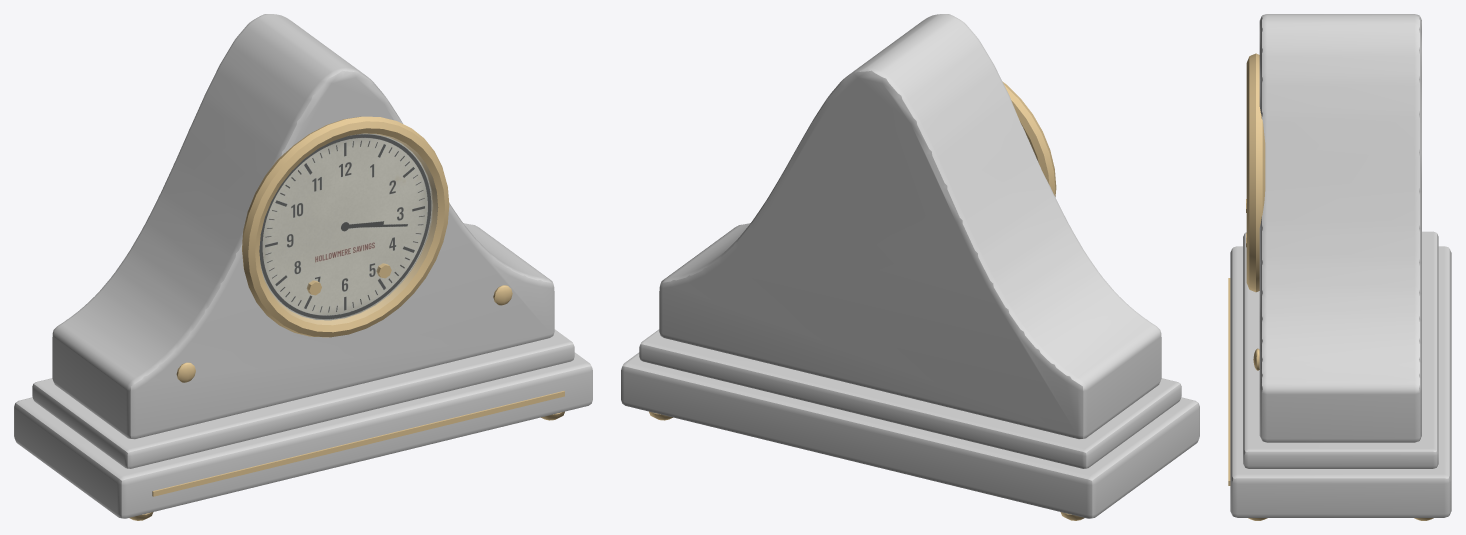
The model's file is SM_Loot_MantelClock.fbx.
3 views of the same model, side by side, from view 1: azimuth 30°, elevation 25°; view 2: azimuth 150°, elevation 25°; view 3: azimuth 270°, elevation 25° (orthographic).
Parts seen in each view (by area): view 1: SM_Loot_MantelClock_1; view 2: SM_Loot_MantelClock_1; view 3: SM_Loot_MantelClock_1.
Part boxes in pixels (x1,y1,x2,y2): SM_Loot_MantelClock_1: (14, 14, 592, 520); SM_Loot_MantelClock_1: (621, 14, 1199, 520); SM_Loot_MantelClock_1: (1228, 14, 1451, 520).
Bounding box in the file's own units: 30 × 23.96 × 12.1.
